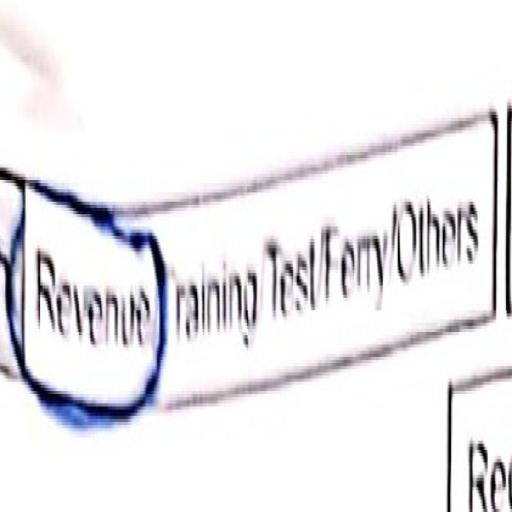check: (13, 150, 160, 488)
